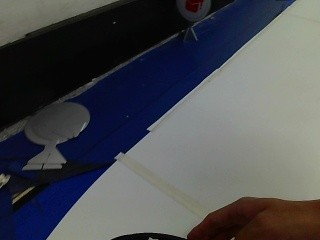school: (173, 0, 212, 24)
